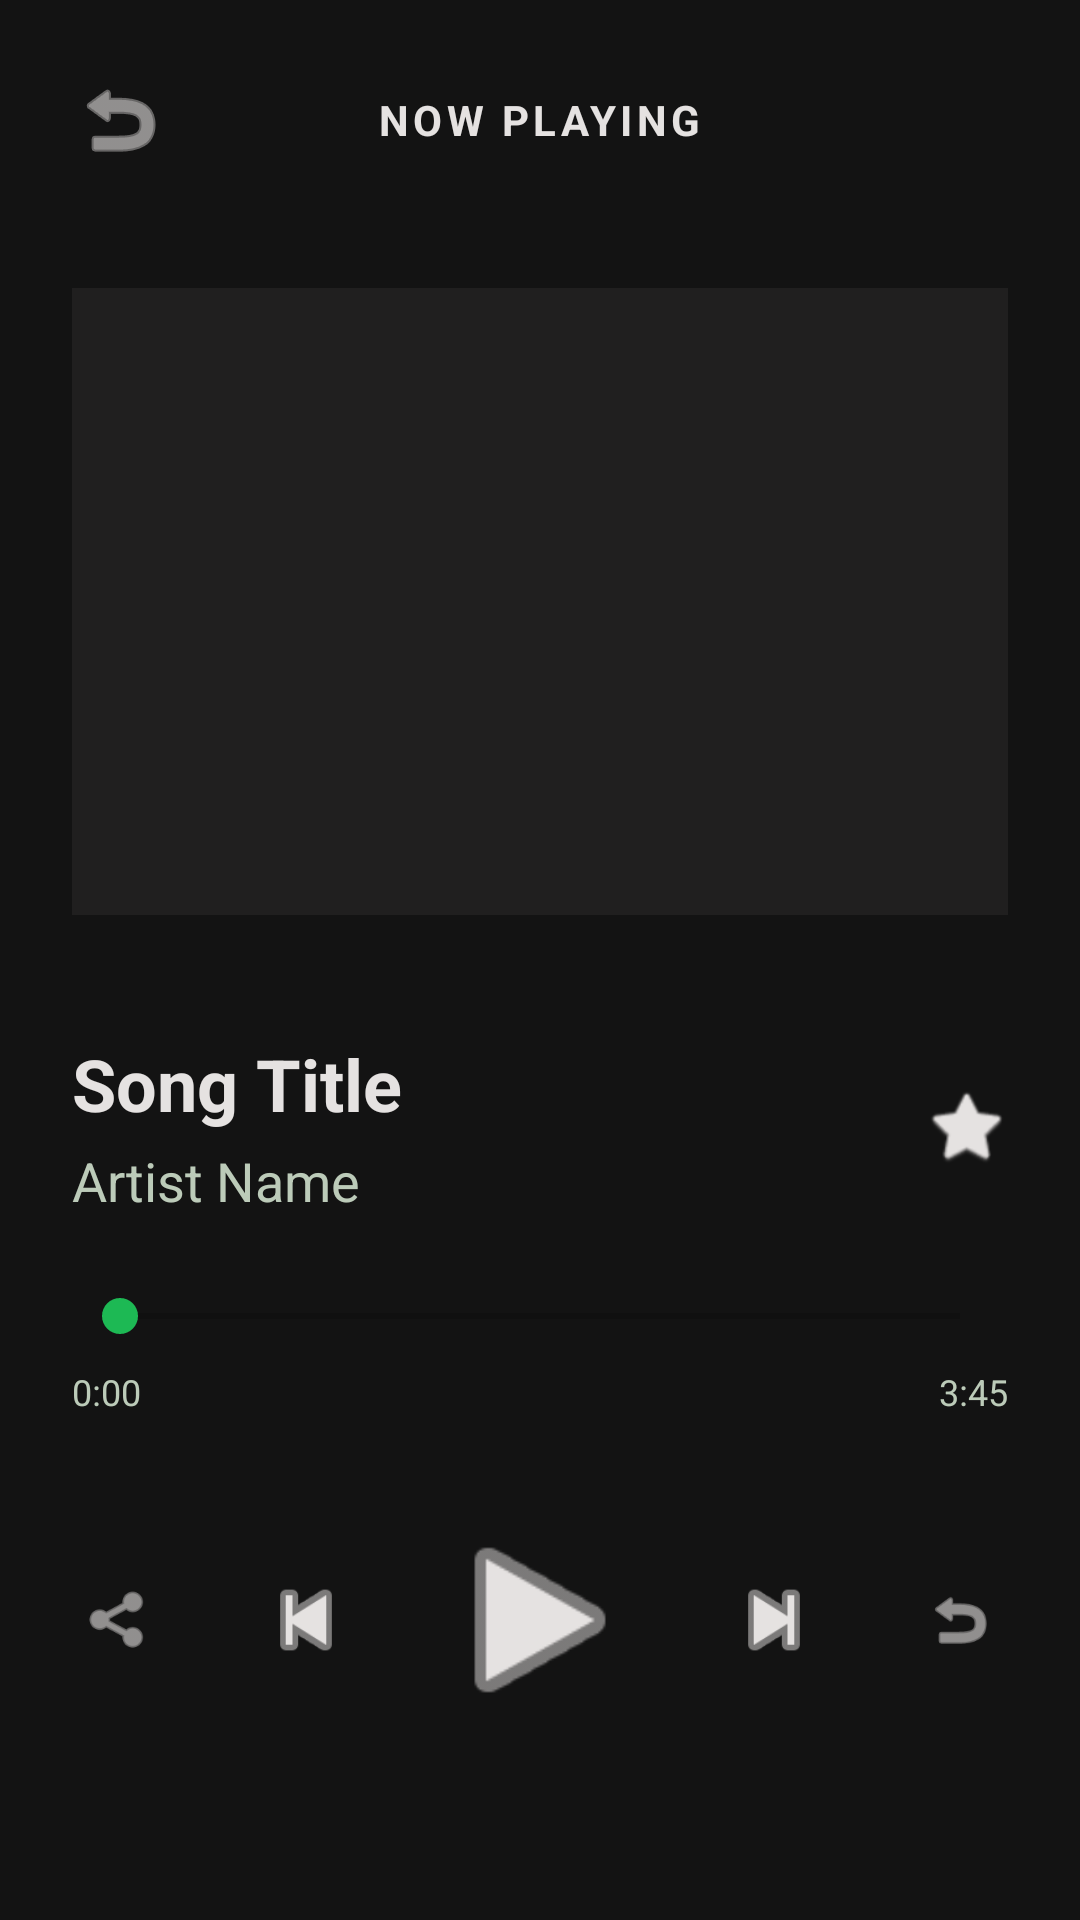

Named icons in this screenshot (1080*1920) and their bounding boxes, (x1, y1, x2, y2):
Back: (87, 89, 156, 152)
Favorite: (932, 1093, 1002, 1161)
Next: (748, 1589, 800, 1651)
Play/Pause: (474, 1547, 606, 1693)
Previous: (280, 1589, 332, 1651)
